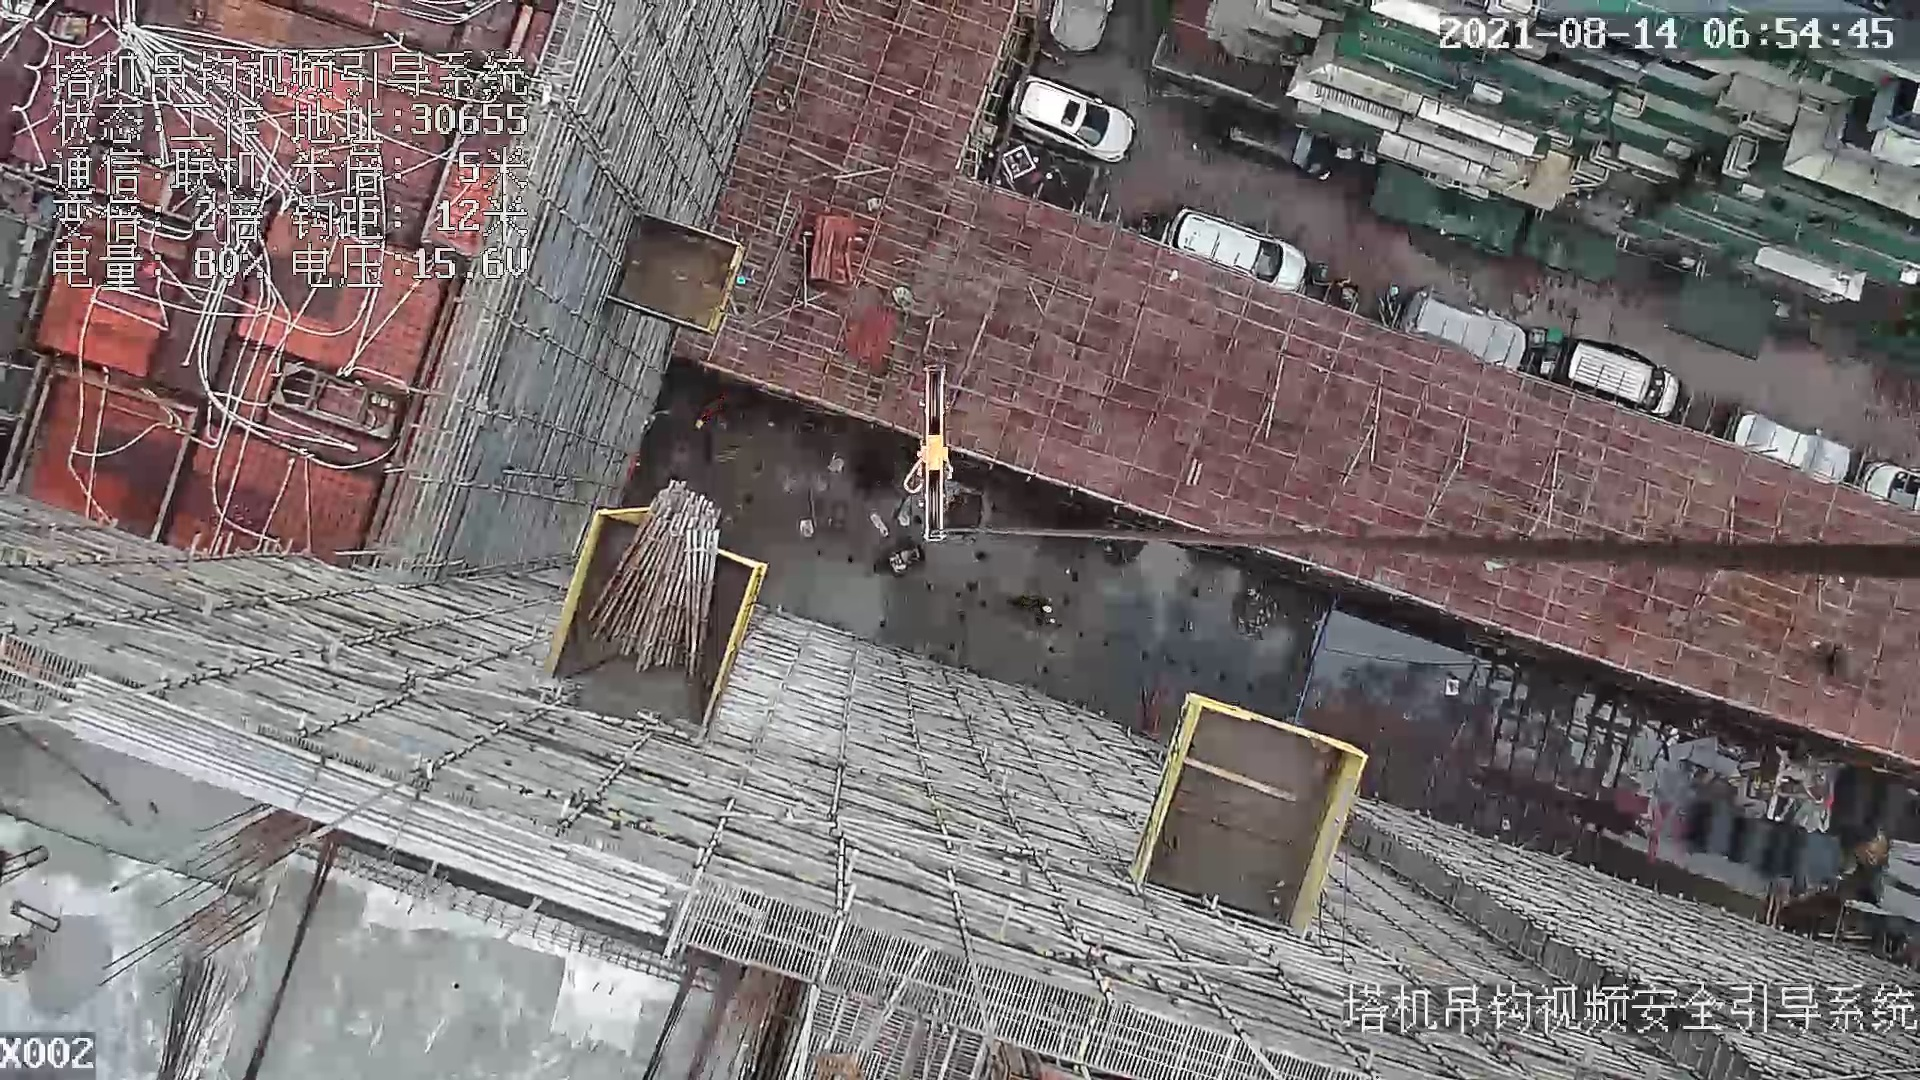hook: (903, 357, 953, 545)
rebar: (47, 669, 678, 942)
scaffold: (587, 480, 721, 680)
